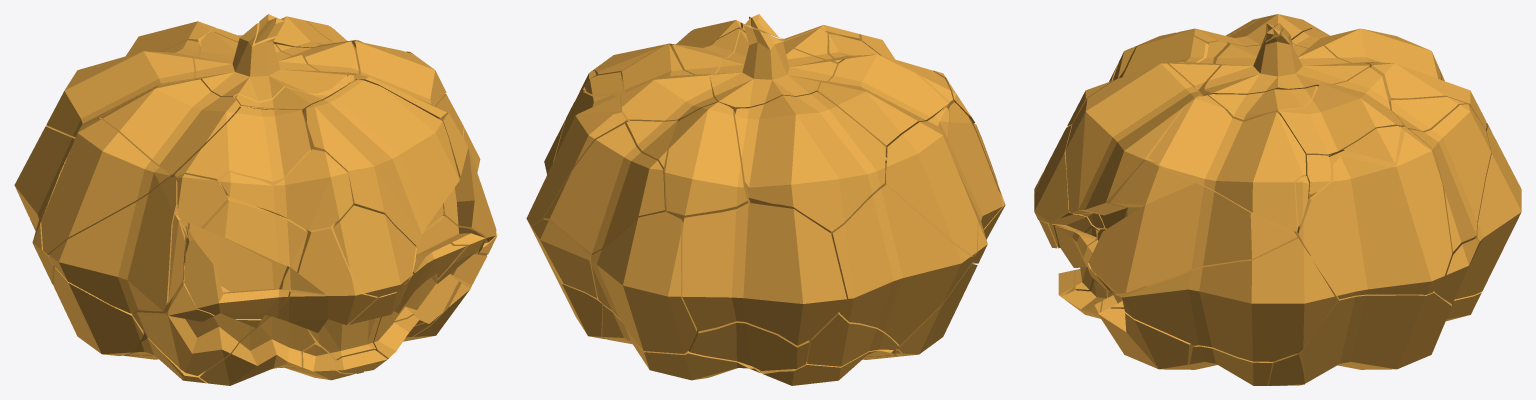
File: pumpkin-carved-a broken.fbx
The picture shows the model from 3 angles, left to right: view 1: azimuth 30°, elevation 25°; view 2: azimuth 150°, elevation 25°; view 3: azimuth 270°, elevation 25°; orthographic projection.
Parts seen in each view (by area): view 1: pumpkin-carved-a_cell.016, pumpkin-carved-a_cell.064, pumpkin-carved-a_cell.007, pumpkin-carved-a_cell.027, pumpkin-carved-a_cell.040, pumpkin-carved-a_cell.082, pumpkin-carved-a_cell.077, pumpkin-carved-a_cell.055, pumpkin-carved-a_cell.062, pumpkin-carved-a_cell.061, pumpkin-carved-a_cell.019, pumpkin-carved-a_cell.065 (+21 smaller); view 2: pumpkin-carved-a_cell.085, pumpkin-carved-a_cell.055, pumpkin-carved-a_cell.049, pumpkin-carved-a_cell.086, pumpkin-carved-a_cell.043, pumpkin-carved-a_cell.023, pumpkin-carved-a_cell.027, pumpkin-carved-a_cell.040, pumpkin-carved-a_cell.077, pumpkin-carved-a_cell.038, pumpkin-carved-a_cell.074, pumpkin-carved-a_cell.045 (+16 smaller); view 3: pumpkin-carved-a_cell.074, pumpkin-carved-a_cell.071, pumpkin-carved-a_cell.066, pumpkin-carved-a_cell.050, pumpkin-carved-a_cell.016, pumpkin-carved-a_cell.081, pumpkin-carved-a_cell.077, pumpkin-carved-a_cell.038, pumpkin-carved-a_cell.043, pumpkin-carved-a_cell.086, pumpkin-carved-a_cell.055, pumpkin-carved-a_cell.056 (+18 smaller).
Part boxes in pixels (x1,y1,x2,y2): pumpkin-carved-a_cell.016: (303, 79, 459, 246); pumpkin-carved-a_cell.064: (184, 195, 307, 319); pumpkin-carved-a_cell.007: (48, 176, 189, 313); pumpkin-carved-a_cell.027: (41, 118, 170, 255); pumpkin-carved-a_cell.040: (99, 79, 240, 174); pumpkin-carved-a_cell.082: (170, 107, 310, 223); pumpkin-carved-a_cell.077: (194, 23, 347, 113); pumpkin-carved-a_cell.055: (46, 40, 200, 138); pumpkin-carved-a_cell.062: (273, 223, 377, 332); pumpkin-carved-a_cell.061: (220, 149, 352, 230); pumpkin-carved-a_cell.019: (132, 224, 269, 375); pumpkin-carved-a_cell.065: (333, 205, 415, 296); pumpkin-carved-a_cell.085: (682, 203, 846, 345); pumpkin-carved-a_cell.055: (735, 91, 885, 232); pumpkin-carved-a_cell.049: (830, 163, 973, 345); pumpkin-carved-a_cell.086: (590, 211, 696, 353); pumpkin-carved-a_cell.043: (544, 123, 664, 258); pumpkin-carved-a_cell.023: (665, 102, 750, 222); pumpkin-carved-a_cell.027: (886, 107, 977, 255); pumpkin-carved-a_cell.040: (818, 54, 948, 157); pumpkin-carved-a_cell.077: (710, 26, 838, 113); pumpkin-carved-a_cell.038: (620, 44, 716, 121); pumpkin-carved-a_cell.074: (526, 87, 629, 237); pumpkin-carved-a_cell.045: (688, 321, 809, 370); pumpkin-carved-a_cell.074: (1295, 126, 1451, 299); pumpkin-carved-a_cell.071: (1115, 231, 1337, 361); pumpkin-carved-a_cell.066: (1089, 160, 1297, 293); pumpkin-carved-a_cell.050: (1148, 95, 1305, 231); pumpkin-carved-a_cell.016: (1065, 63, 1201, 228); pumpkin-carved-a_cell.081: (1294, 255, 1451, 383); pumpkin-carved-a_cell.077: (1197, 27, 1369, 96); pumpkin-carved-a_cell.038: (1278, 67, 1403, 160); pumpkin-carved-a_cell.043: (1409, 104, 1491, 258); pumpkin-carved-a_cell.086: (1454, 126, 1521, 299); pumpkin-carved-a_cell.055: (1291, 28, 1441, 79); pumpkin-carved-a_cell.056: (1098, 308, 1217, 369).
Size of the model in its own units: 61.49 by 44.25 by 61.49.
